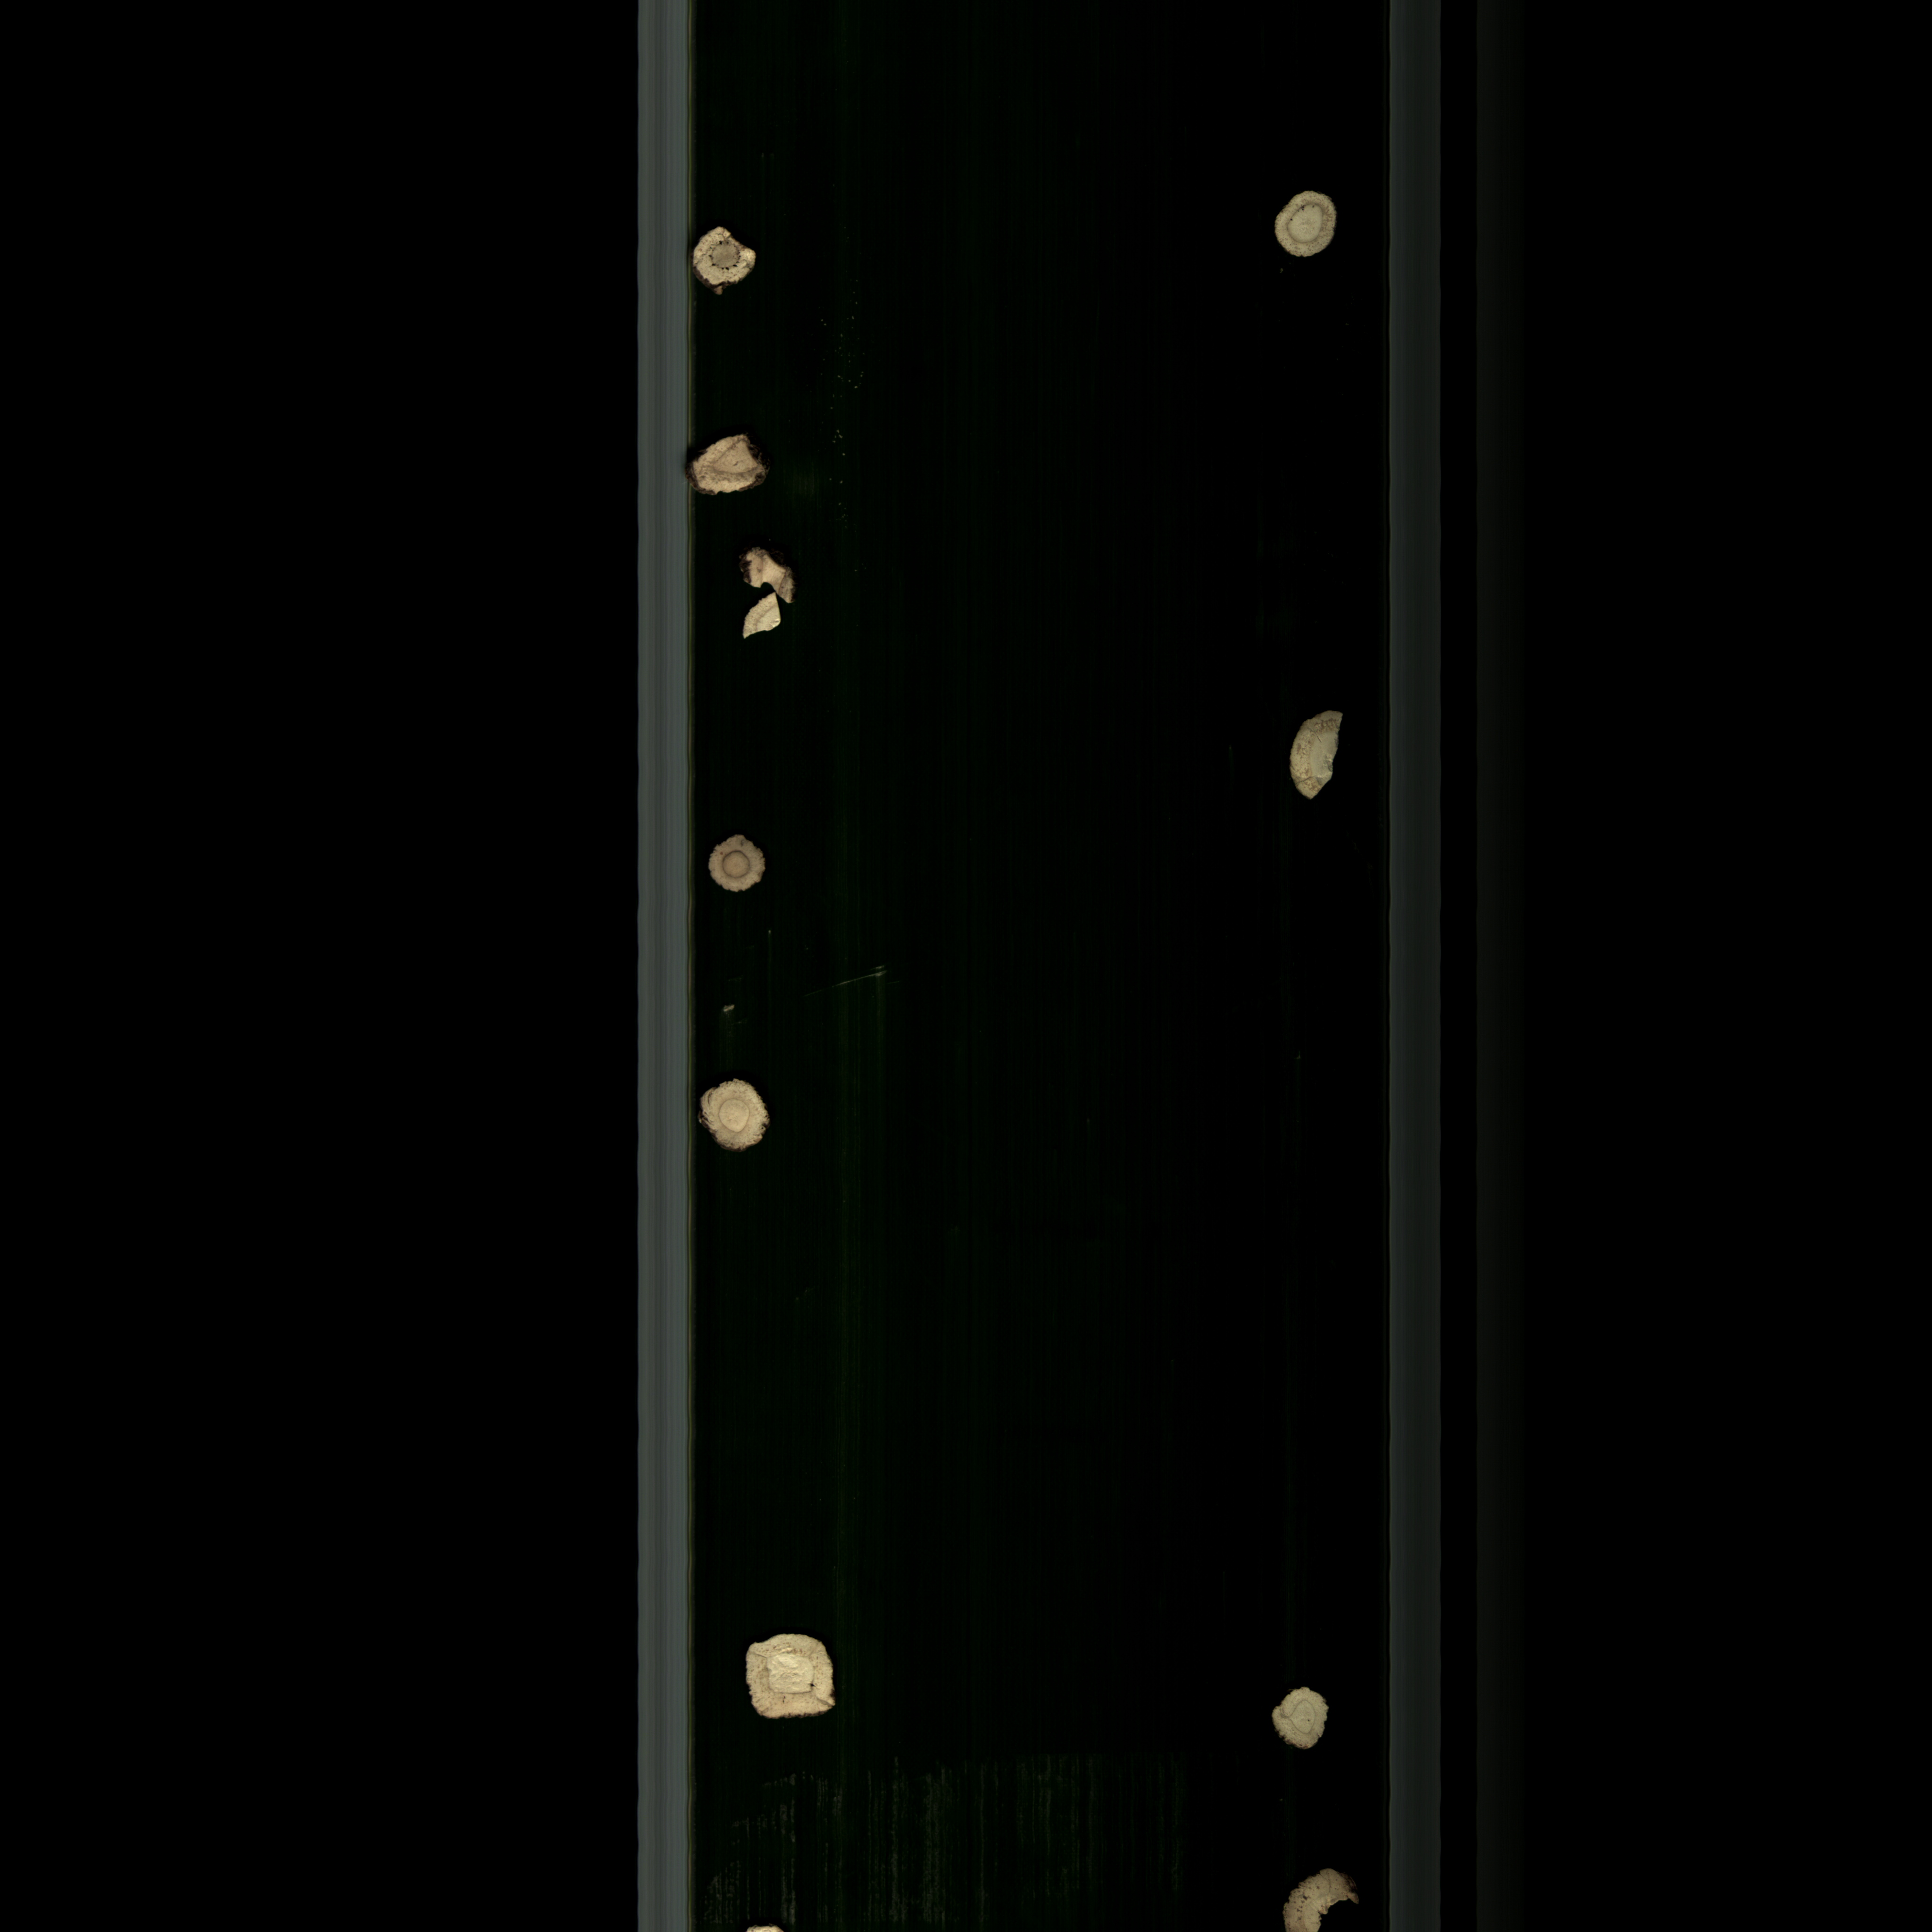debris: (1270, 704, 1357, 823)
distortion: (738, 1626, 851, 1741), (692, 1074, 782, 1164), (1261, 1679, 1341, 1764)
dreg: (732, 594, 789, 651)
moldy: (683, 426, 787, 506), (1258, 180, 1352, 262), (692, 211, 773, 303), (1277, 1859, 1368, 1932), (701, 828, 782, 908), (731, 543, 823, 609)
